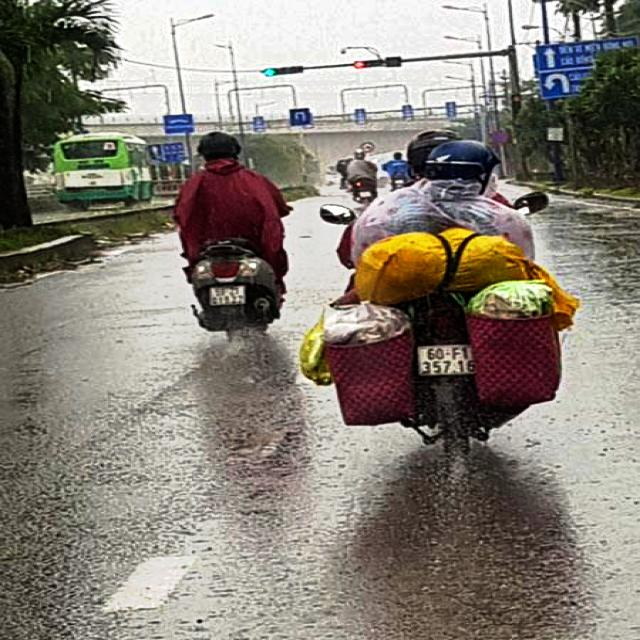license_plate: (418, 346, 479, 375)
